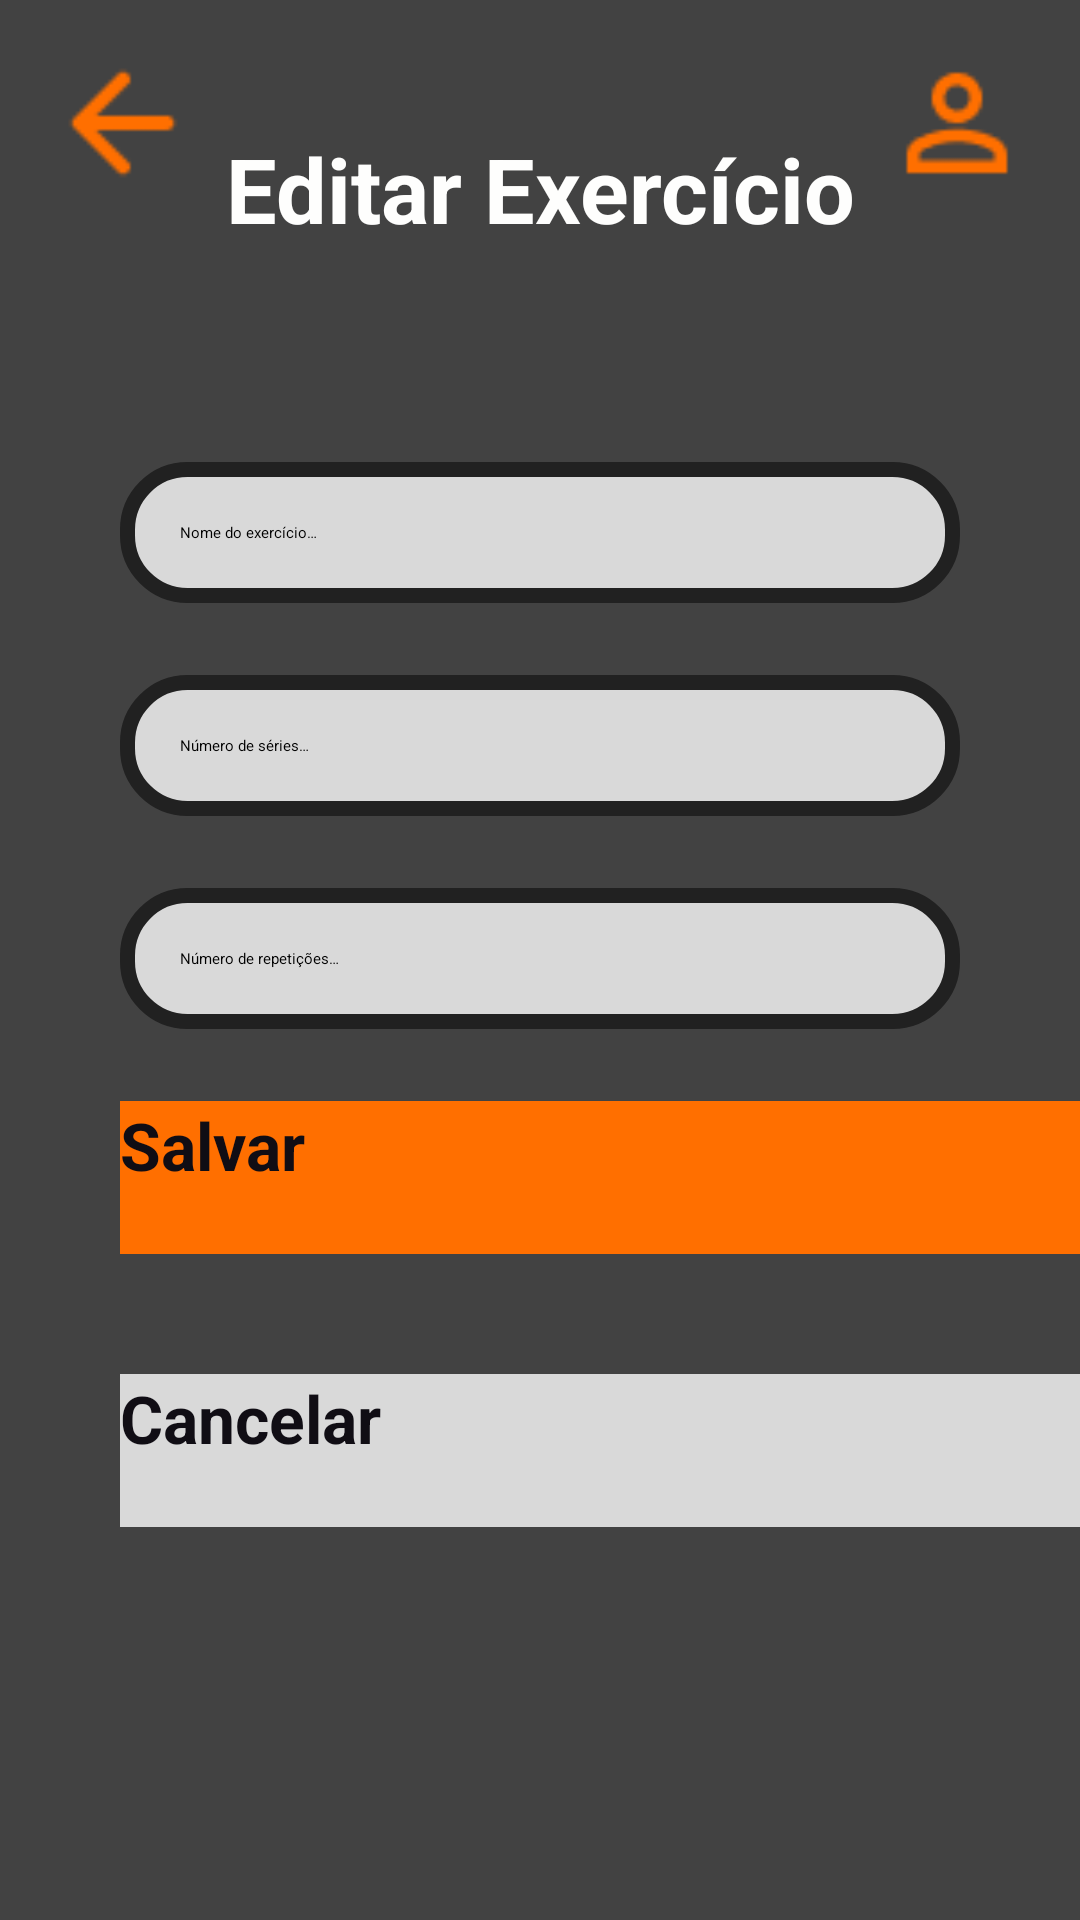

Point at icon controls on the screen. Image size 1080 × 1920, points as [x,y].
person: [957,123]
Voltar para tela anterior: [123,123]
